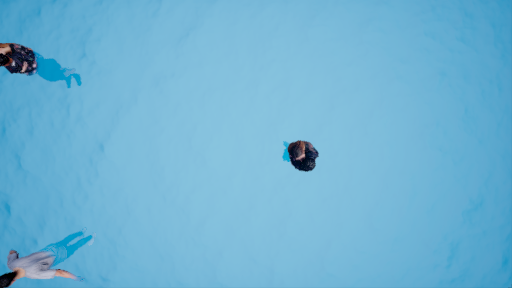person: (1, 231, 104, 283), (1, 39, 93, 94), (275, 139, 323, 173)
